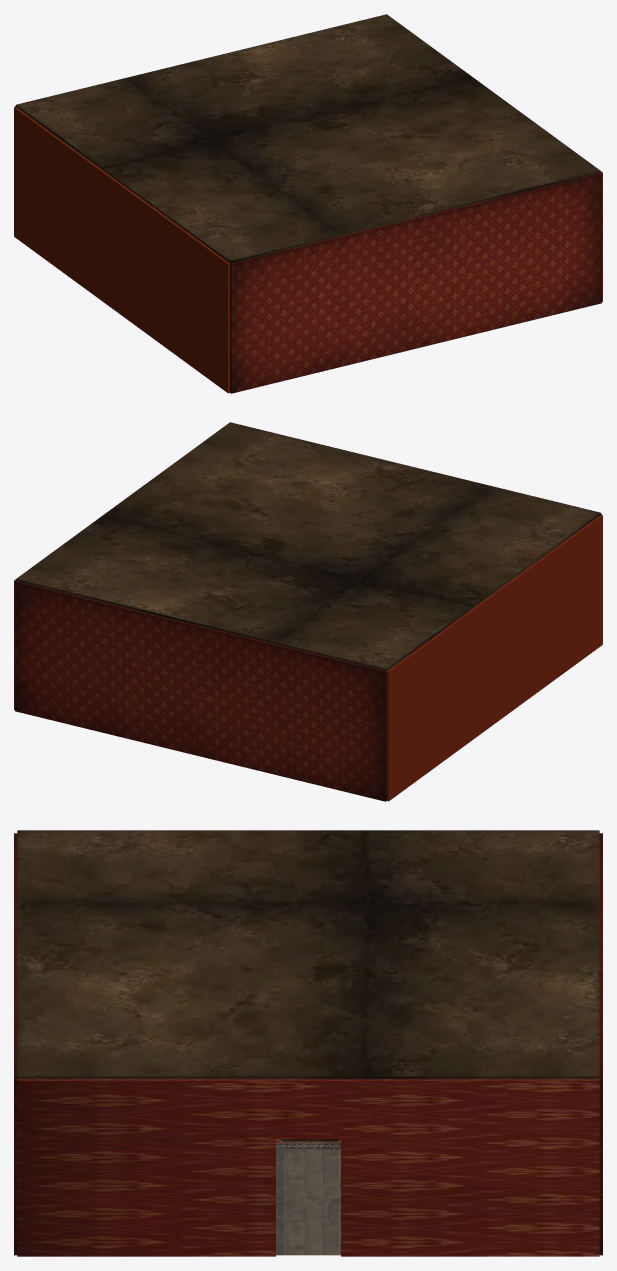
The model's file is room.glb.
3 renders of one model, top to bottom at view 1: azimuth 30°, elevation 25°; view 2: azimuth 150°, elevation 25°; view 3: azimuth 270°, elevation 25°, orthographic. The views are drawn at different scales.
Parts seen in each view (by area): view 1: roof, wall; view 2: roof, wall; view 3: roof, wall, floor, Plane.
Part boxes in pixels (x1,y1,x2,y2): roof: [16, 14, 600, 263]; wall: [14, 105, 602, 393]; roof: [16, 422, 600, 671]; wall: [14, 513, 602, 801]; roof: [17, 830, 599, 1079]; wall: [14, 833, 602, 1256]; floor: [276, 1149, 340, 1255]; Plane: [276, 1139, 340, 1149].
Bounding box in the file's own units: 9.1 × 3.06 × 9.1.
13 materials, 13 textured.
